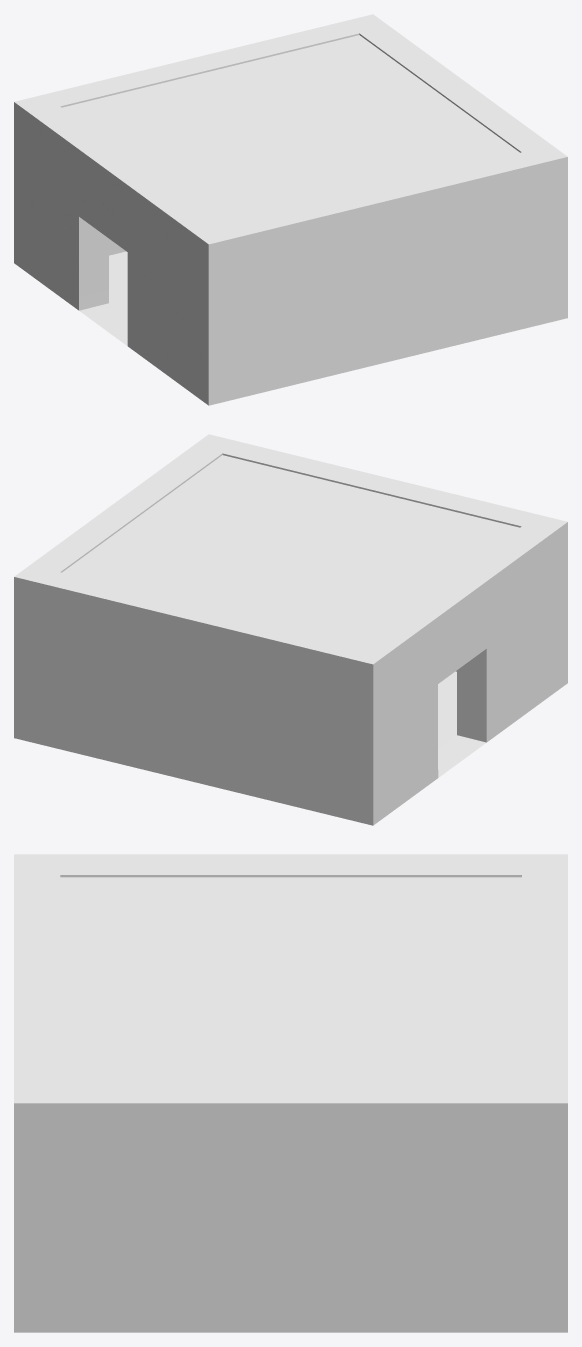
The model's file is FachadaV1.obj.
The picture shows the model from 3 angles, top to bottom: view 1: azimuth 30°, elevation 25°; view 2: azimuth 150°, elevation 25°; view 3: azimuth 270°, elevation 25°; orthographic projection. The views are drawn at different scales.
Parts seen in each view (by area): view 1: pCube3, pCube2; view 2: pCube3, pCube2; view 3: pCube3, pCube2.
Boxes of the visible parts, x1,y1,x2,y2 form: pCube3: [14, 14, 567, 405]; pCube2: [62, 35, 519, 225]; pCube3: [14, 434, 567, 825]; pCube2: [62, 455, 519, 645]; pCube3: [14, 854, 567, 1332]; pCube2: [60, 877, 521, 1082].
Size of the model in its own units: 27.12 by 11.64 by 25.48.
Materials: 2 (2 with a texture image).
